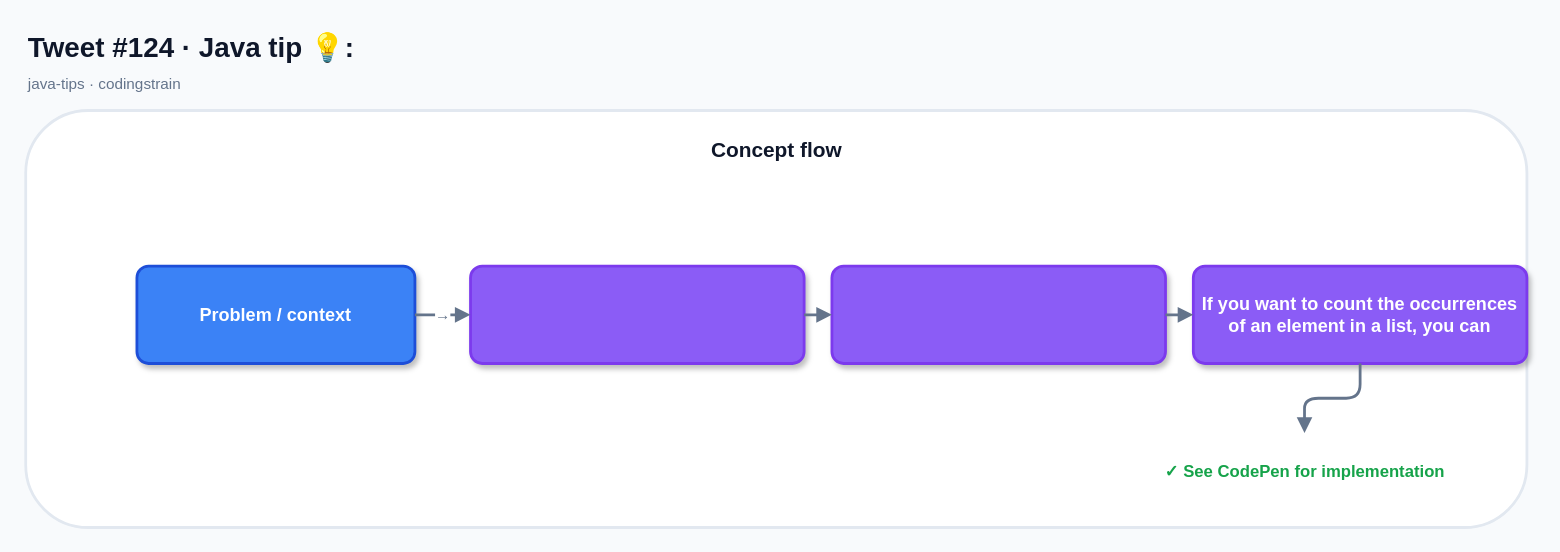
Image size: 1560x552. Some labels were removed from this diagram. Here are the shapes that lost their labels. From the top down, the centre of each, then its label:
At (638,316): "💡 Java tip 💡:".
At (999,316): "Java tip 💡:".
